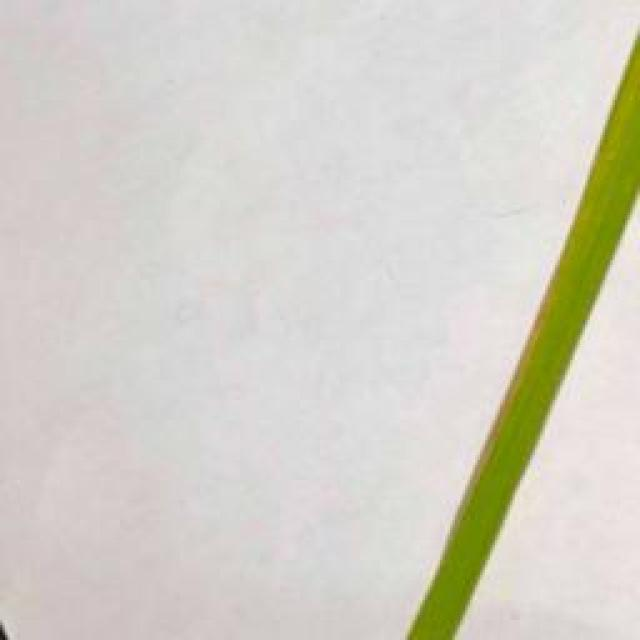Bacterial_Blight: (439, 260, 565, 567)
